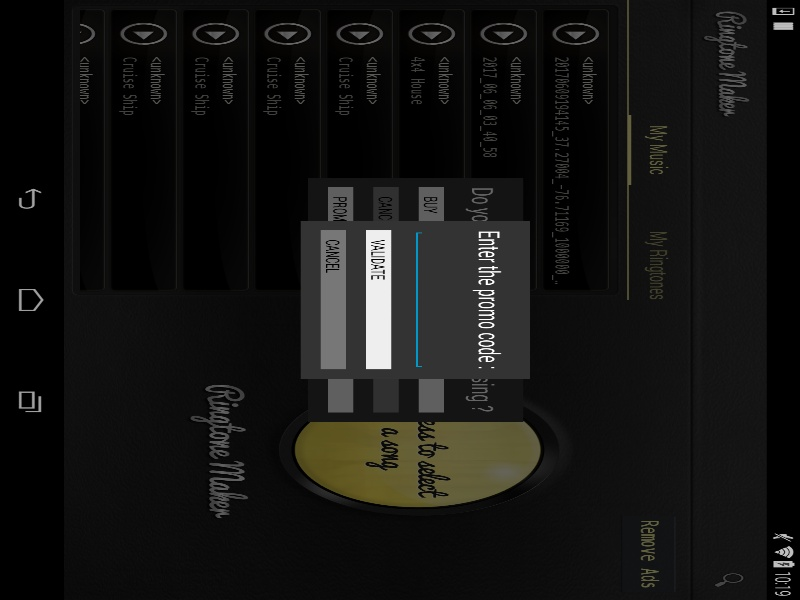Button: (491, 191, 788, 203), (491, 212, 788, 224)
Input: (491, 154, 788, 182)
